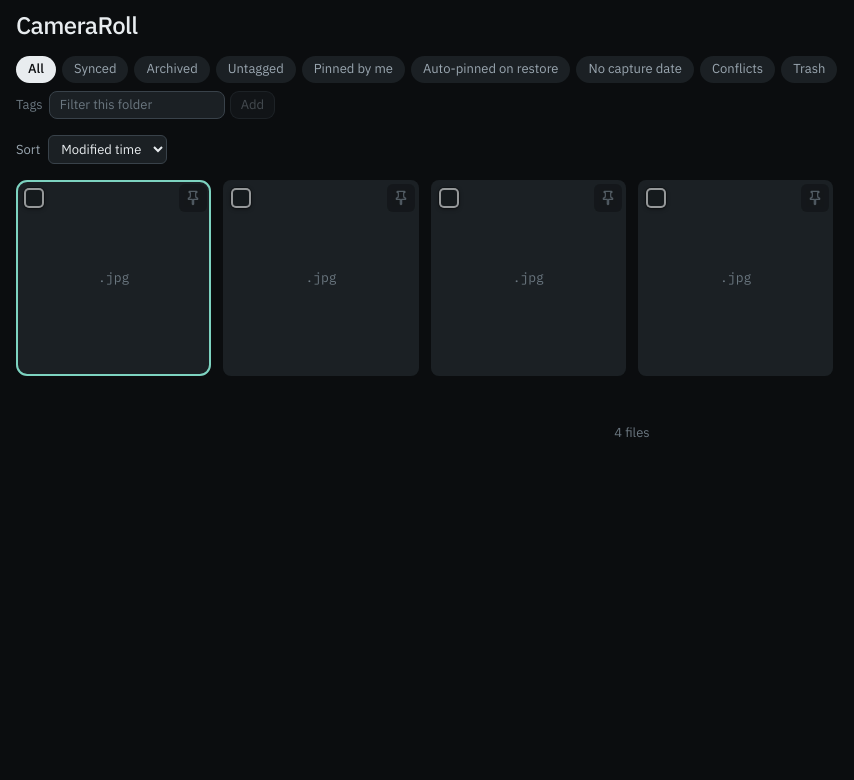
Test case: Gallery › should group capture-sorted files by day and preserve raw date headings
Expected: the button with aria-label "one.jpg" is shown, [16,180,211,376]
Step 1. Select "Capture time" in the dropdown named "Sort gallery" → coordinates (108, 150), box [48,135,167,164]
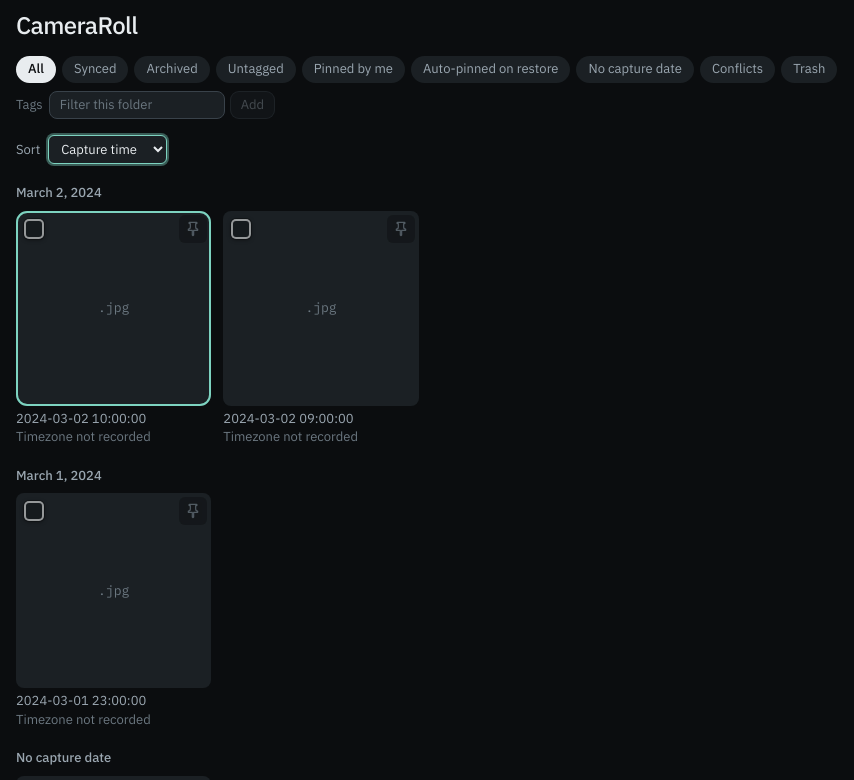
Now the heading "March 2, 2024" is shown, box [16,184,102,201]
Now the heading "March 1, 2024" is shown, box [16,467,102,484]
Now the heading "No capture date" is shown, box [16,749,111,766]
